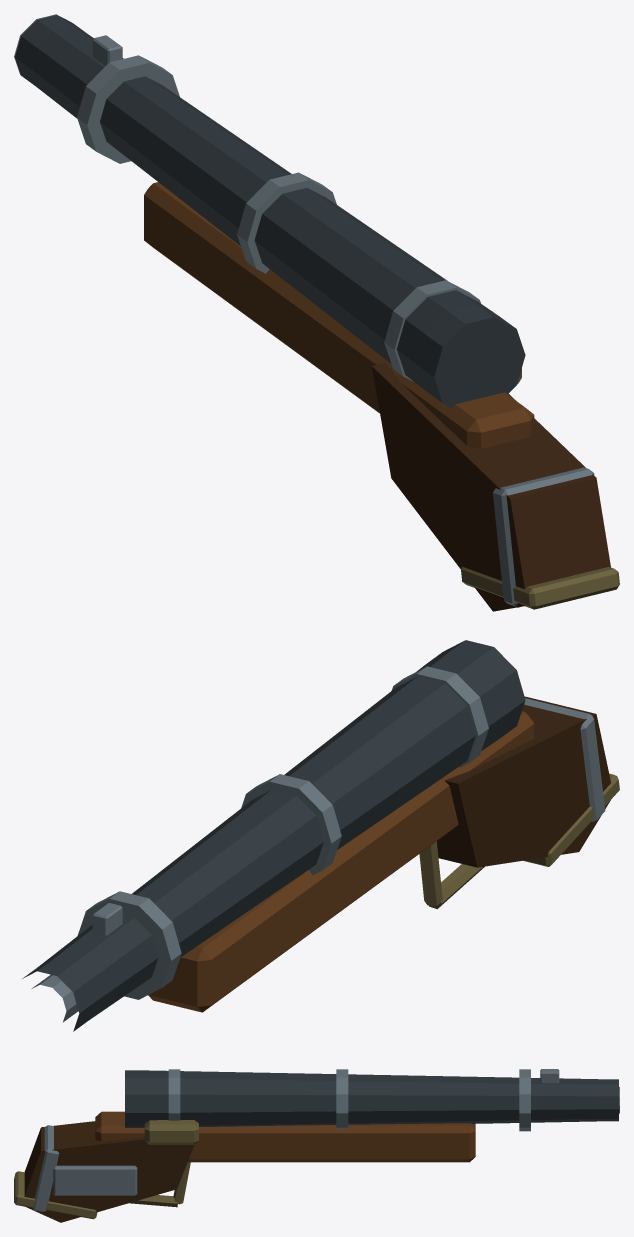
The model's file is Musket.glb.
3 renders of one model, top to bottom at view 1: azimuth 30°, elevation 25°; view 2: azimuth 150°, elevation 25°; view 3: azimuth 270°, elevation 25°, orthographic. The views are drawn at different scales.
Visible parts, largest first — view 1: Sculpture; view 2: Sculpture; view 3: Sculpture.
Boxes of the visible parts, x1,y1,x2,y2 form: Sculpture: [14, 14, 619, 611]; Sculpture: [22, 640, 619, 1031]; Sculpture: [14, 1069, 619, 1222].
Bounding box in the file's own units: 0.148 × 0.313 × 1.23.
